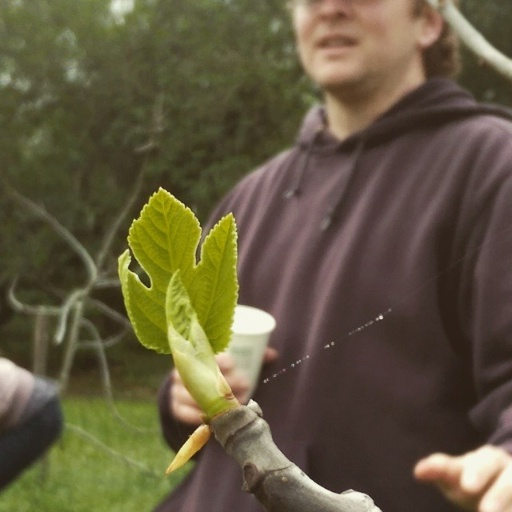hand: (169, 347, 252, 425), (417, 440, 503, 505)
